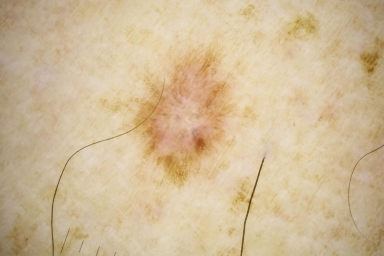melanoma: (143, 53, 230, 185)
